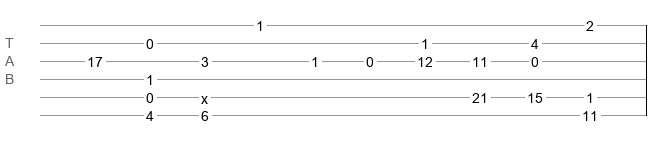0: (146, 36, 154, 46), (146, 90, 154, 100), (366, 54, 374, 64), (531, 54, 539, 64)
1: (146, 72, 154, 82), (256, 18, 264, 28), (311, 54, 319, 64), (421, 36, 429, 46), (586, 90, 594, 100)
11: (472, 54, 488, 64), (582, 108, 598, 118)
12: (417, 54, 433, 64)
15: (527, 90, 543, 100)
17: (87, 54, 103, 64)
2: (586, 18, 594, 28)
21: (472, 90, 488, 100)
3: (201, 54, 209, 64)
4: (146, 108, 154, 118), (531, 36, 539, 46)
6: (201, 108, 209, 118)
x: (201, 91, 208, 99)
